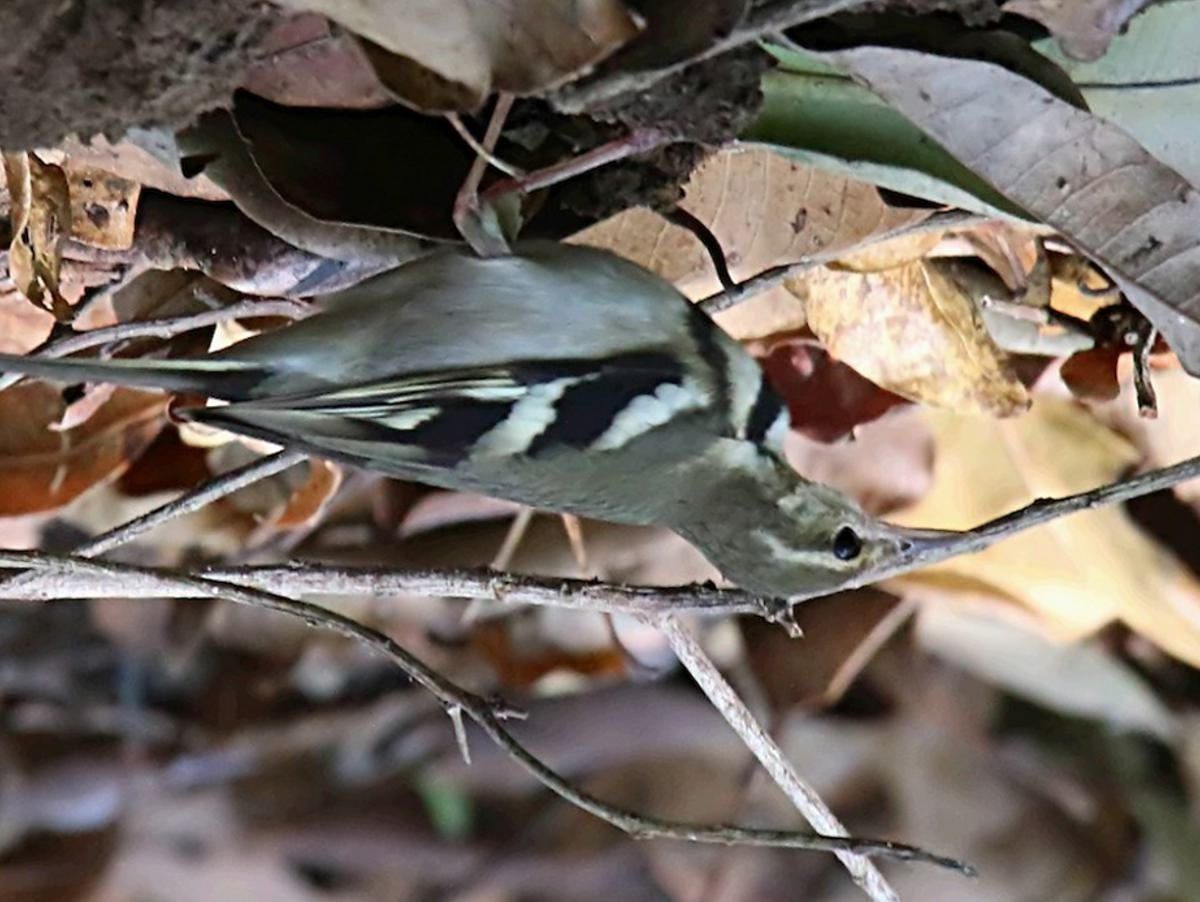wagtail: (103, 128, 1036, 651)
